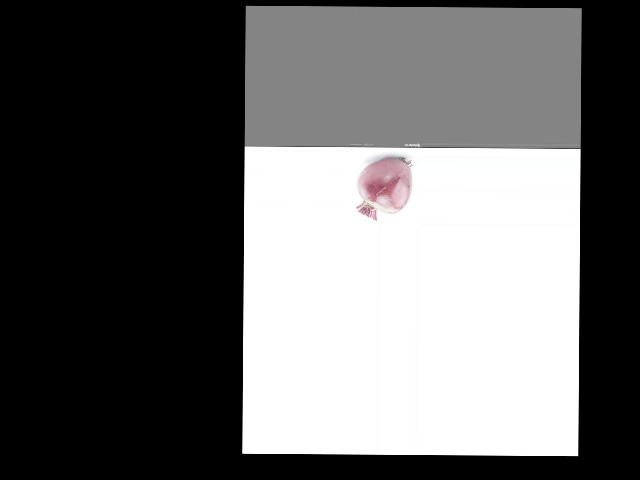beet: (355, 158, 412, 220)
